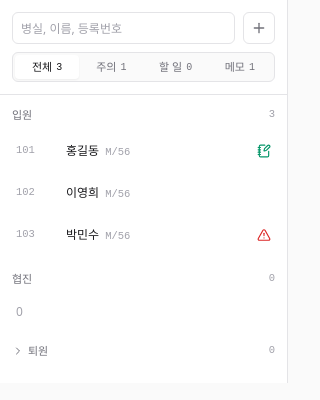
Test case: PatientRail 메모 필터 › narrows the list to patients with a note today
Click the button "메모 1" at (240, 67), box top-left (208, 55), bottom-right (272, 79)
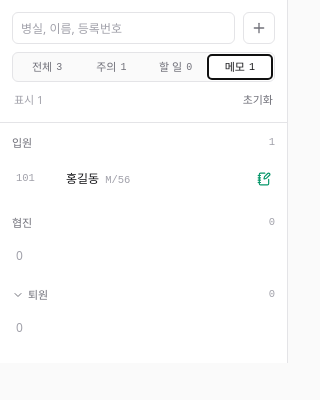
Expected: the text "홍길동" is shown, top-left (66, 170), bottom-right (99, 187)
Now the button "이영희" is gone
Now the button "박민수" is gone
